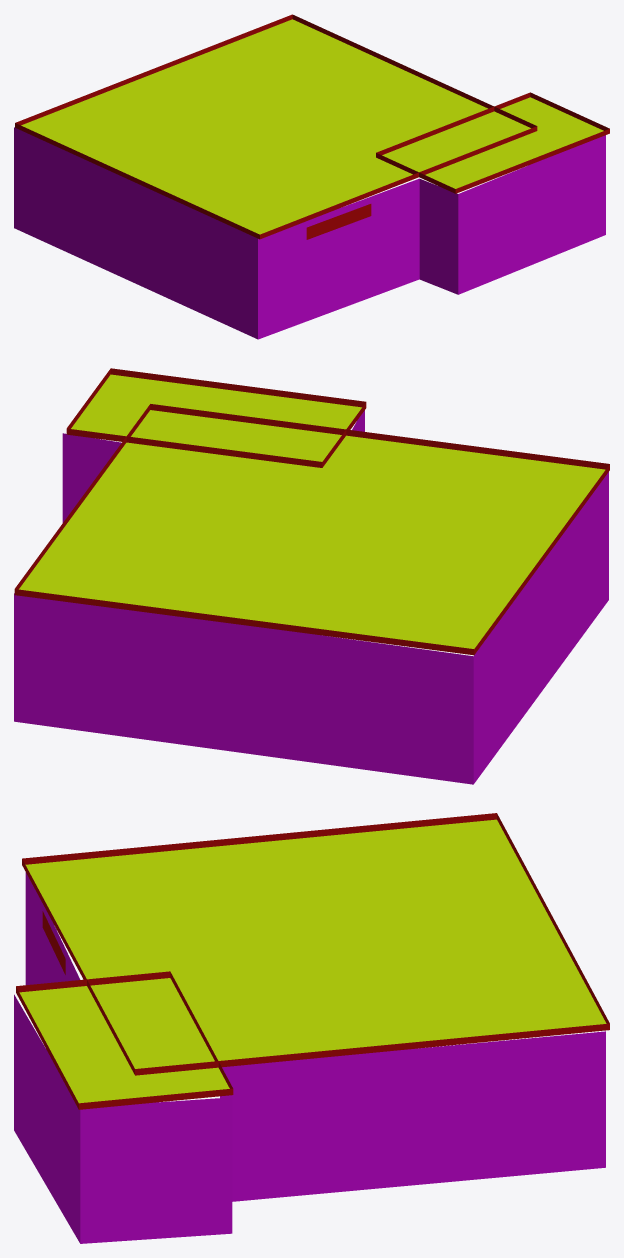
The model's file is sjs_56.glb.
3 views of the same model, one above another, from view 1: azimuth 30°, elevation 25°; view 2: azimuth 150°, elevation 25°; view 3: azimuth 270°, elevation 25° (orthographic). The views are drawn at different scales.
Parts seen in each view (by area): view 1: sjs_56; view 2: sjs_56; view 3: sjs_56.
Part boxes in pixels (x1,y1,x2,y2): sjs_56: (14,14,609,339); sjs_56: (14,368,609,784); sjs_56: (14,813,609,1243).
Bounding box in the file's own units: 33.21 × 7.62 × 28.8.
